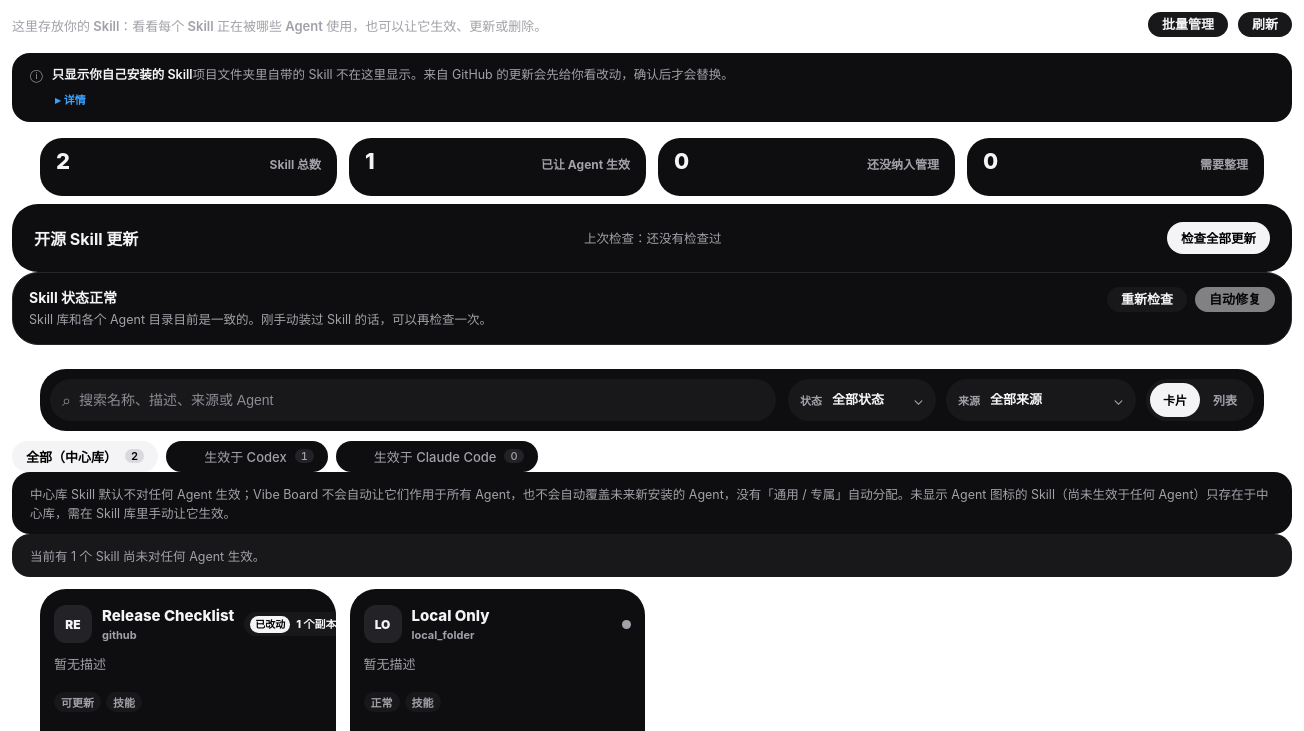
Test case: SkillLibraryPage › filters an Agent category by its real installed targets
Click the tab "生效于 Codex 1". click: point(247, 456)
box: [166,440,328,472]
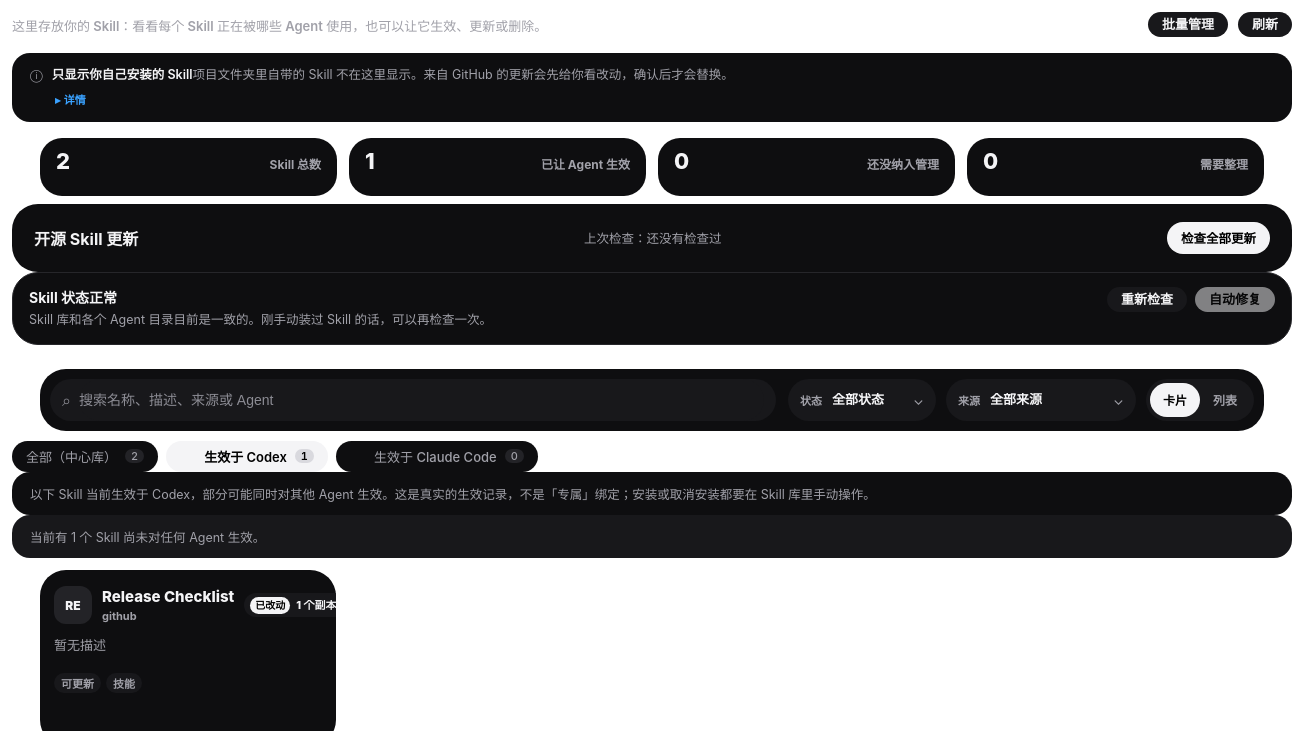
Expected: the heading "Release Checklist" is shown, [102,588,234,607]
Now the heading "Local Only" is gone
Now the text "不是「专属」绑定" is shown, box [30,486,876,502]
